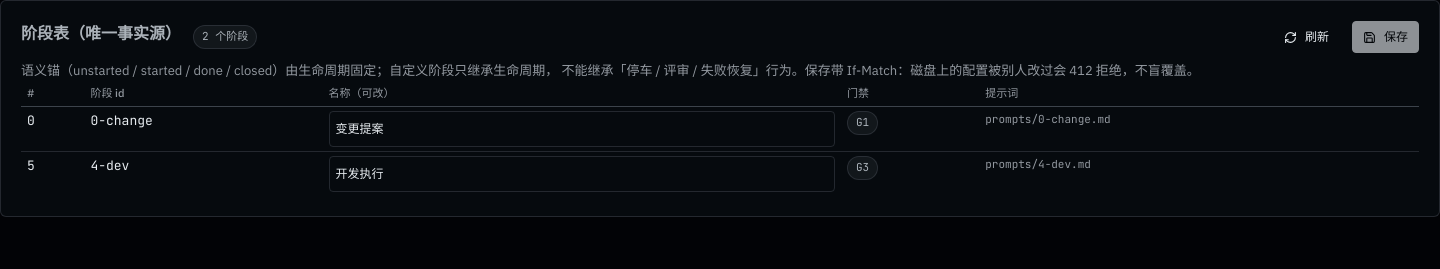
阶段模型配置（真数据） › 412/400 的后端文案原样透传（不谎报保存成功）
Step 1. Replace the text in the field named "阶段名称 0-change" with "x" → (582, 129), box [328, 111, 835, 147]
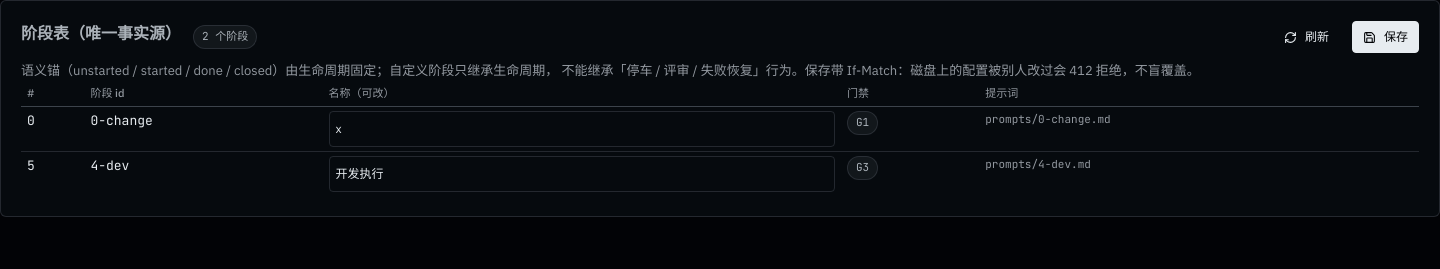
Step 2. Click the button "保存" → (1386, 37), box [1352, 21, 1419, 53]
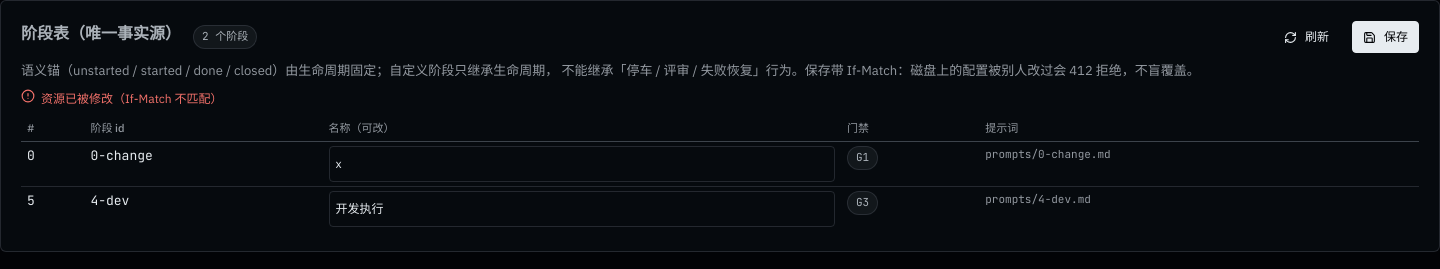
Expected: the message shows "If-Match 不匹配", [41, 90, 222, 106]
